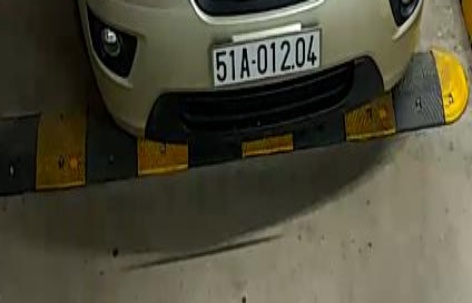plate: (212, 31, 330, 83)
